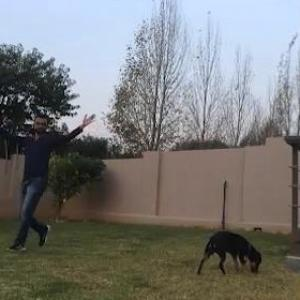takeoff: (0, 111, 113, 254)
